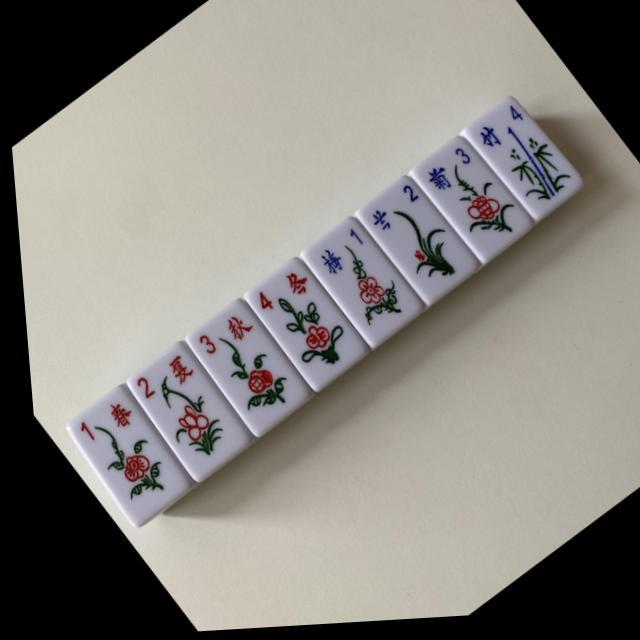bf1: (293, 216, 421, 354)
bf2: (349, 176, 478, 313)
bf3: (403, 137, 533, 271)
bf4: (457, 99, 584, 229)
bs1: (56, 382, 186, 530)
bs2: (116, 340, 246, 486)
bs3: (177, 298, 307, 441)
bs4: (236, 257, 365, 397)
